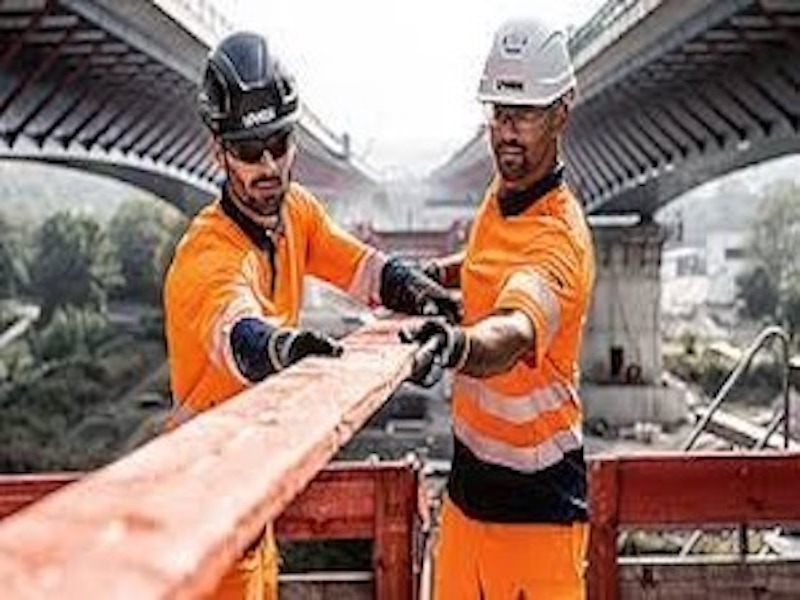safety: (199, 26, 307, 150), (466, 19, 583, 109)
